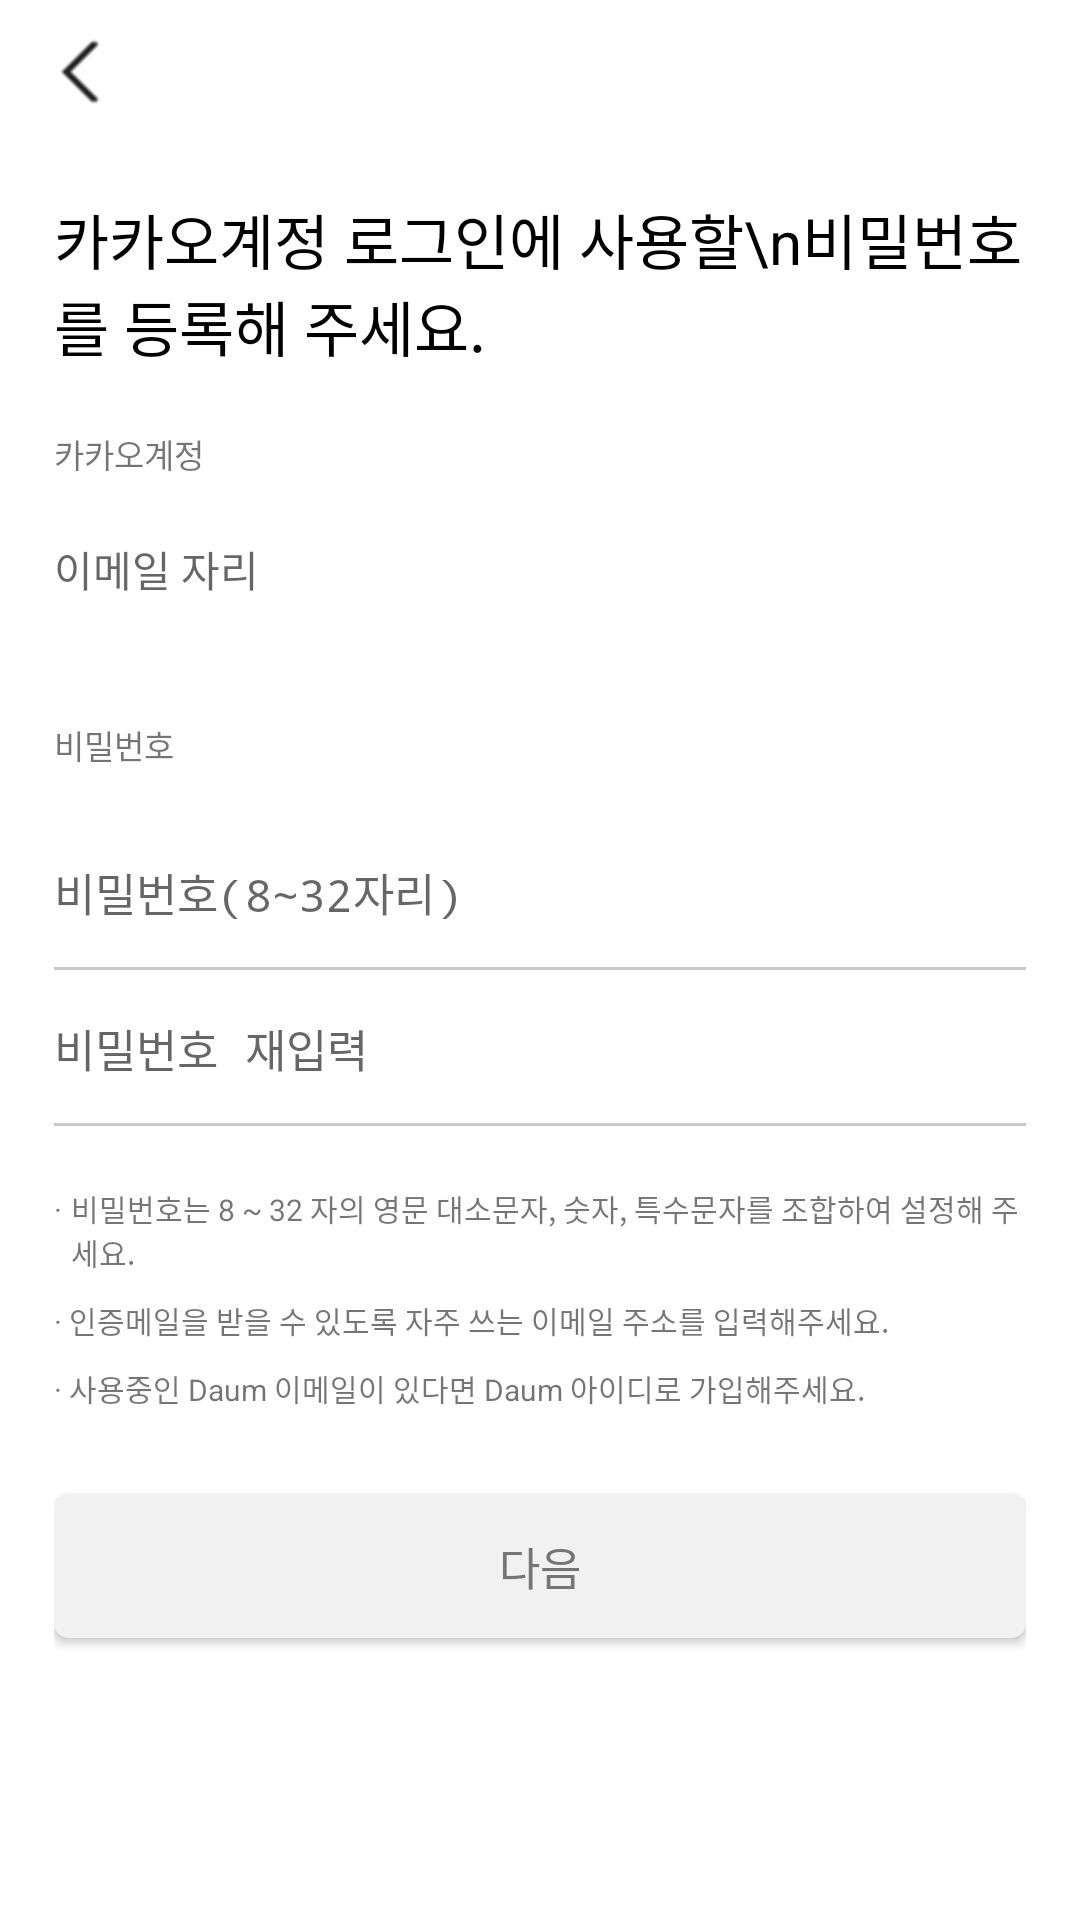

Icon bounding boxes for this 1080×1920 phone screenshot, format {"left": x1, "top": y1, "right": x2, "bottom": y2}:
left: {"left": 61, "top": 40, "right": 99, "bottom": 103}
